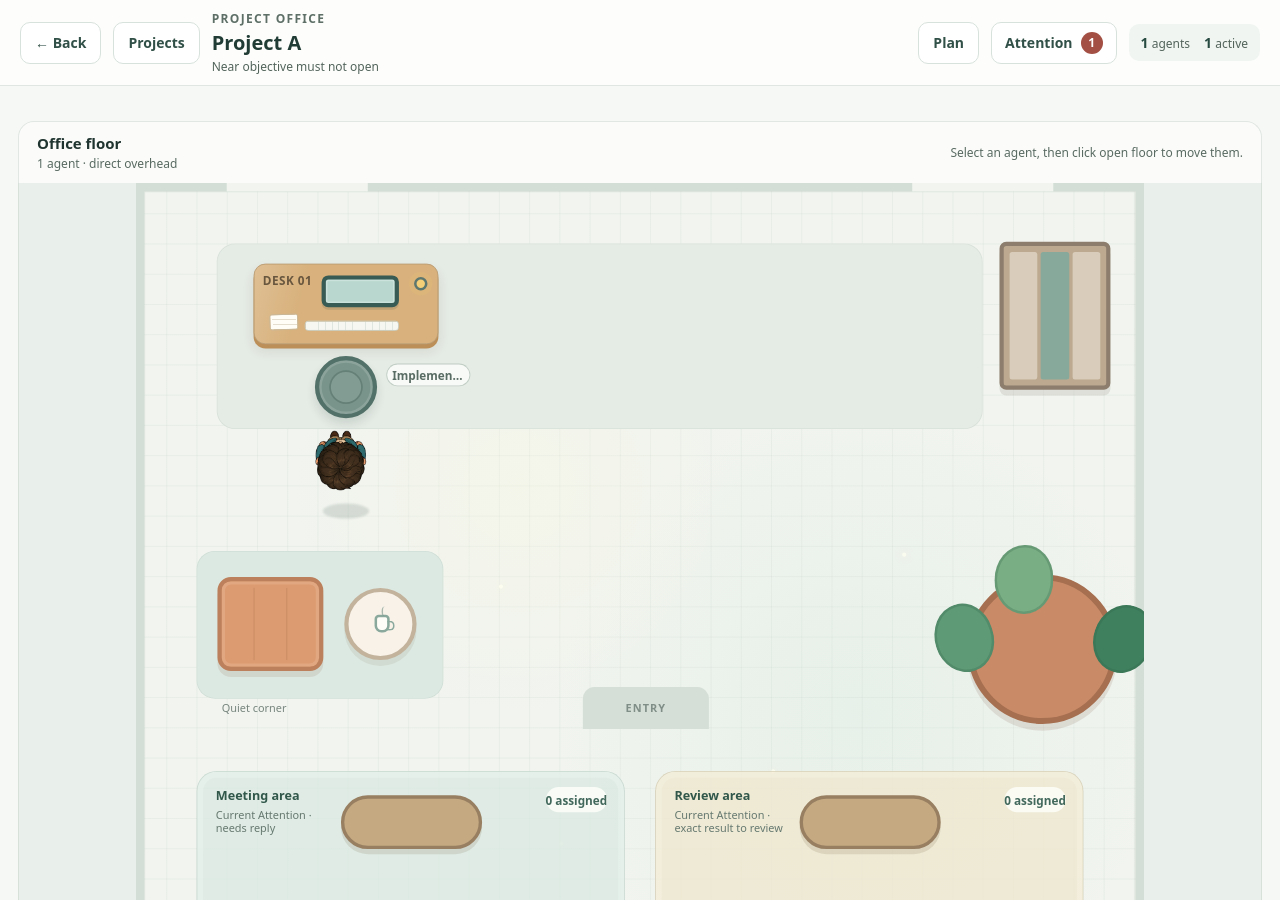
Scenario: top-down product selection › opens stored Plan context for a failed receipt whose live task is archived
Click the button "Attention 1" at (1054, 42), box [991,22,1117,64]
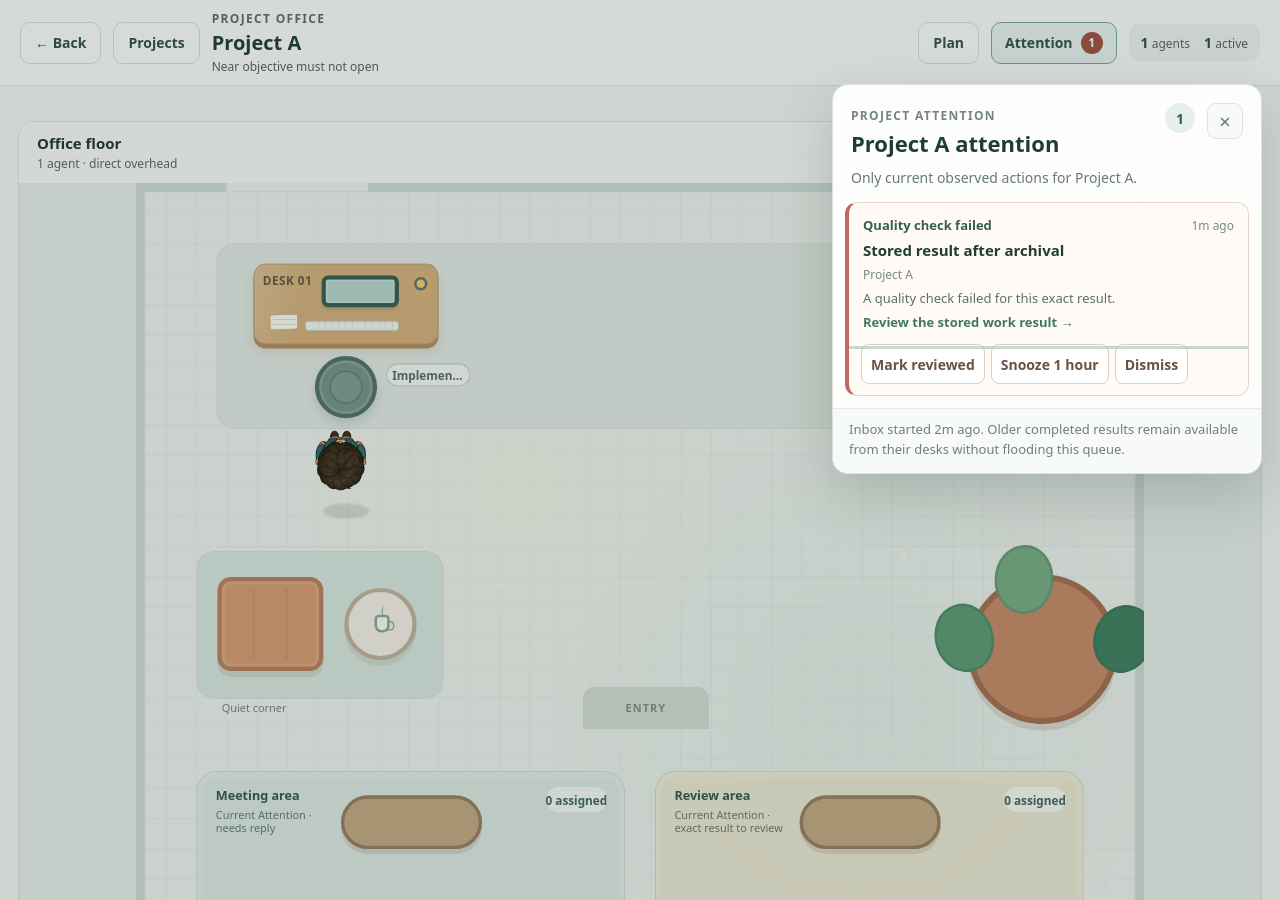
expect the button that starts with "Quality check failed" is shown: met
Click the button that starts with "Quality check failed" at (927, 225), box [849,203,1248,344]
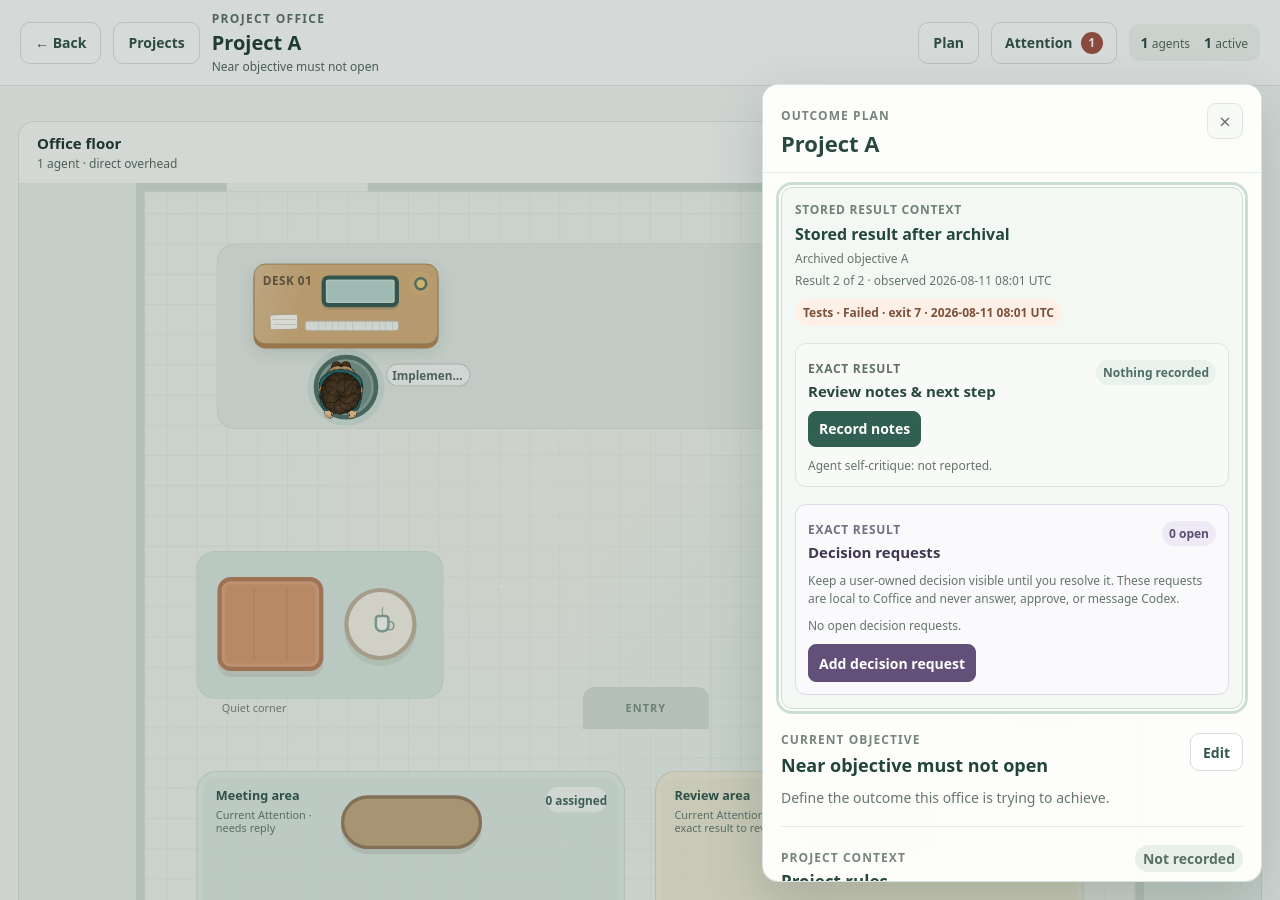
expect the dialog is shown: met, box [762,84,1262,882]
expect the element that starts with "Stored result context" shows "Stored result after archival": met, box [795,223,1010,245]
expect the element that starts with "Stored result context" shows "Archived objective A": met, box [795,250,908,267]
